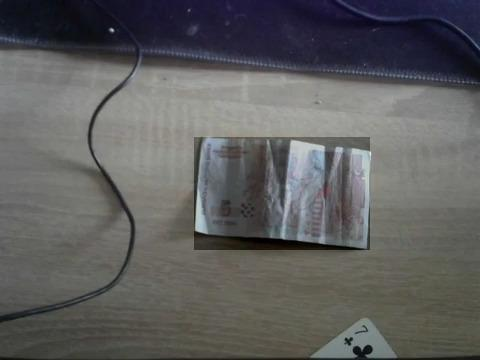5leva: (194, 137, 370, 250)
